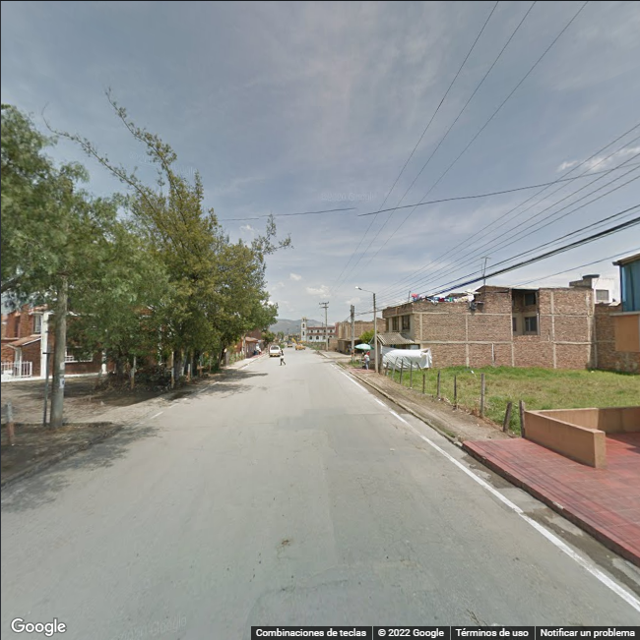D00: (350, 465, 393, 546)
D10: (263, 577, 353, 595)
